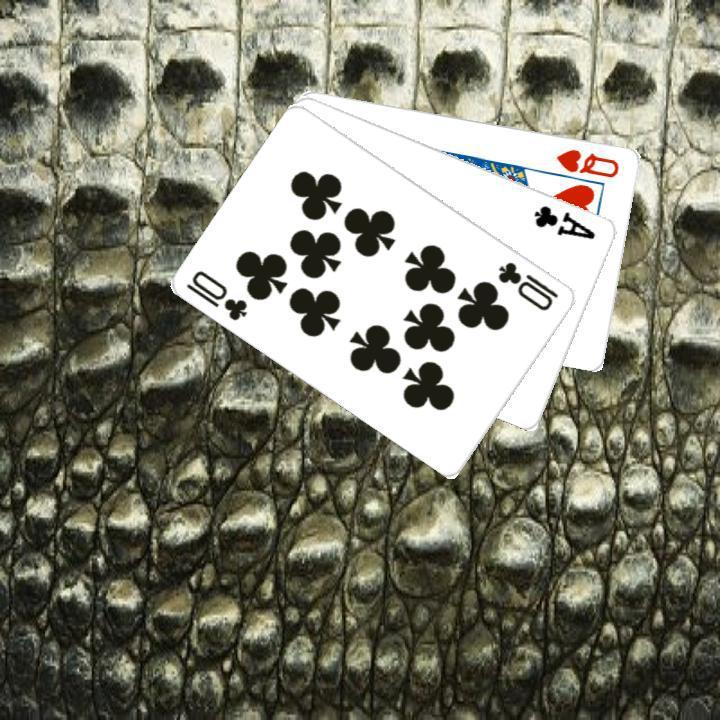10: (182, 265, 251, 323), (494, 256, 561, 313)
A: (530, 200, 598, 242)
Q: (552, 144, 622, 179)
